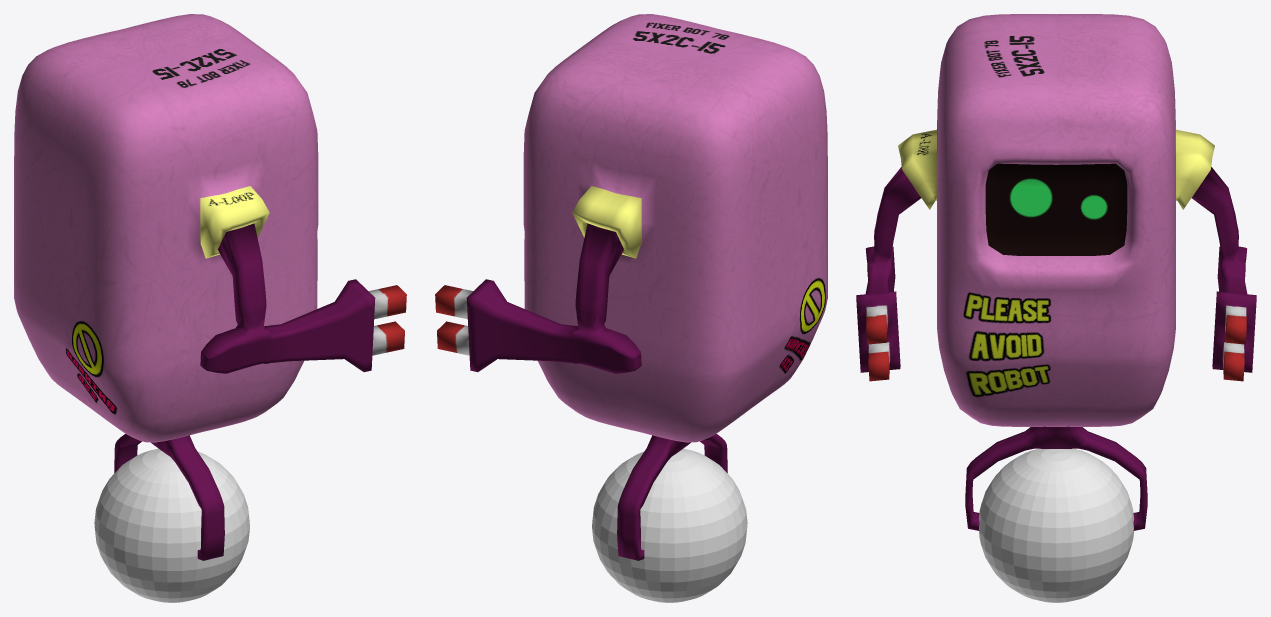
Rendered from texture robot.fbx.
3 views of the same model, side by side, from view 1: azimuth 30°, elevation 25°; view 2: azimuth 150°, elevation 25°; view 3: azimuth 270°, elevation 25° (orthographic).
Visible parts, largest first — view 1: Cube, Sphere; view 2: Cube, Sphere; view 3: Cube, Sphere.
Part boxes in pixels (left/top/right/bottom): Cube: left=14, top=14, right=406, bottom=560; Sphere: left=94, top=448, right=249, bottom=602; Cube: left=435, top=14, right=827, bottom=560; Sphere: left=592, top=448, right=747, bottom=602; Cube: left=856, top=14, right=1256, bottom=530; Sphere: left=979, top=448, right=1133, bottom=602.
Bounding box in the file's own units: 230 × 465 × 311.
